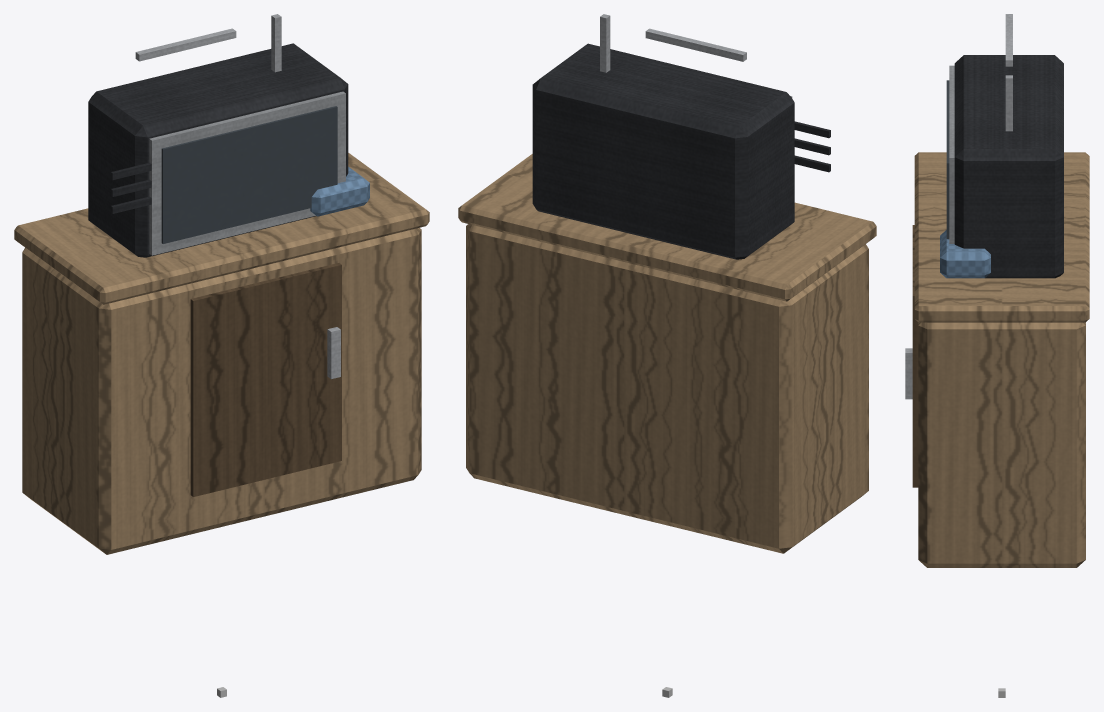
Rendered from rv_furn_tv.gltf.
3 renders of one model, left to right at view 1: azimuth 30°, elevation 25°; view 2: azimuth 150°, elevation 25°; view 3: azimuth 270°, elevation 25°, orthographic. The views are drawn at different scales.
Parts seen in each view (by area): view 1: RV_Furn_TV; view 2: RV_Furn_TV; view 3: RV_Furn_TV.
Part boxes in pixels (x1,y1,x2,y2): RV_Furn_TV: [14, 14, 429, 697]; RV_Furn_TV: [458, 14, 876, 697]; RV_Furn_TV: [905, 14, 1089, 697].
Size of the model in its own units: 1.02 by 1.96 by 0.505.
8 materials, 7 textured.
